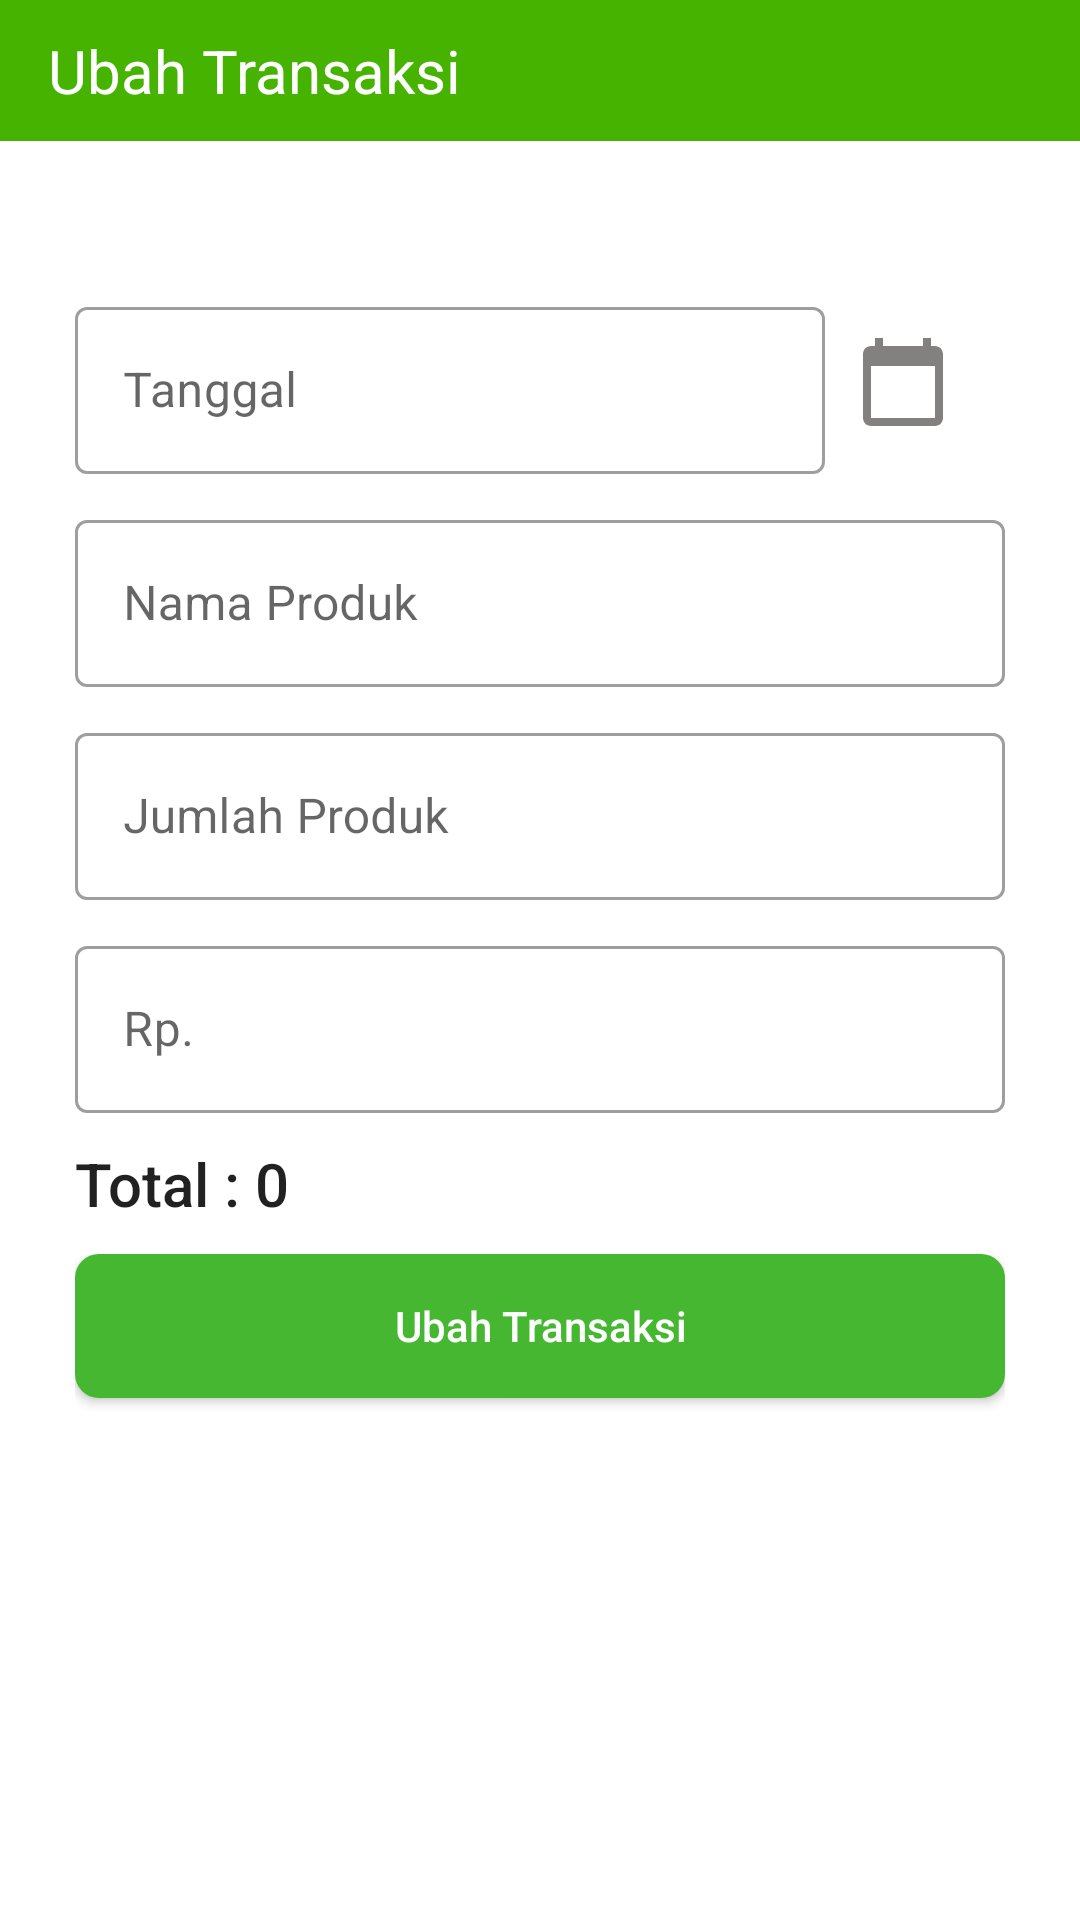

Icon bounding boxes for this 1080 × 1920 phone screenshot, format box=[x1, y1, x2, y2]:
calendar today: box=[863, 338, 943, 426]
